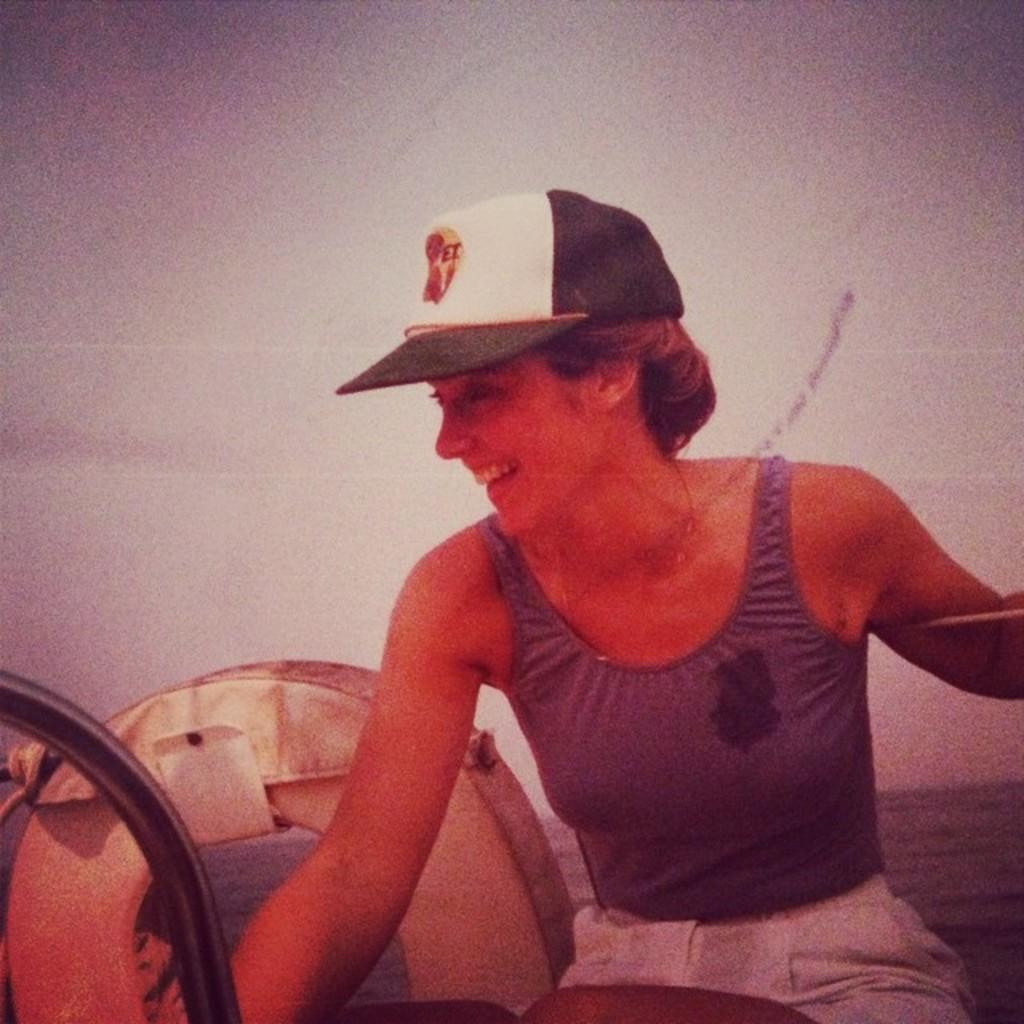Hat: (334, 182, 683, 395)
